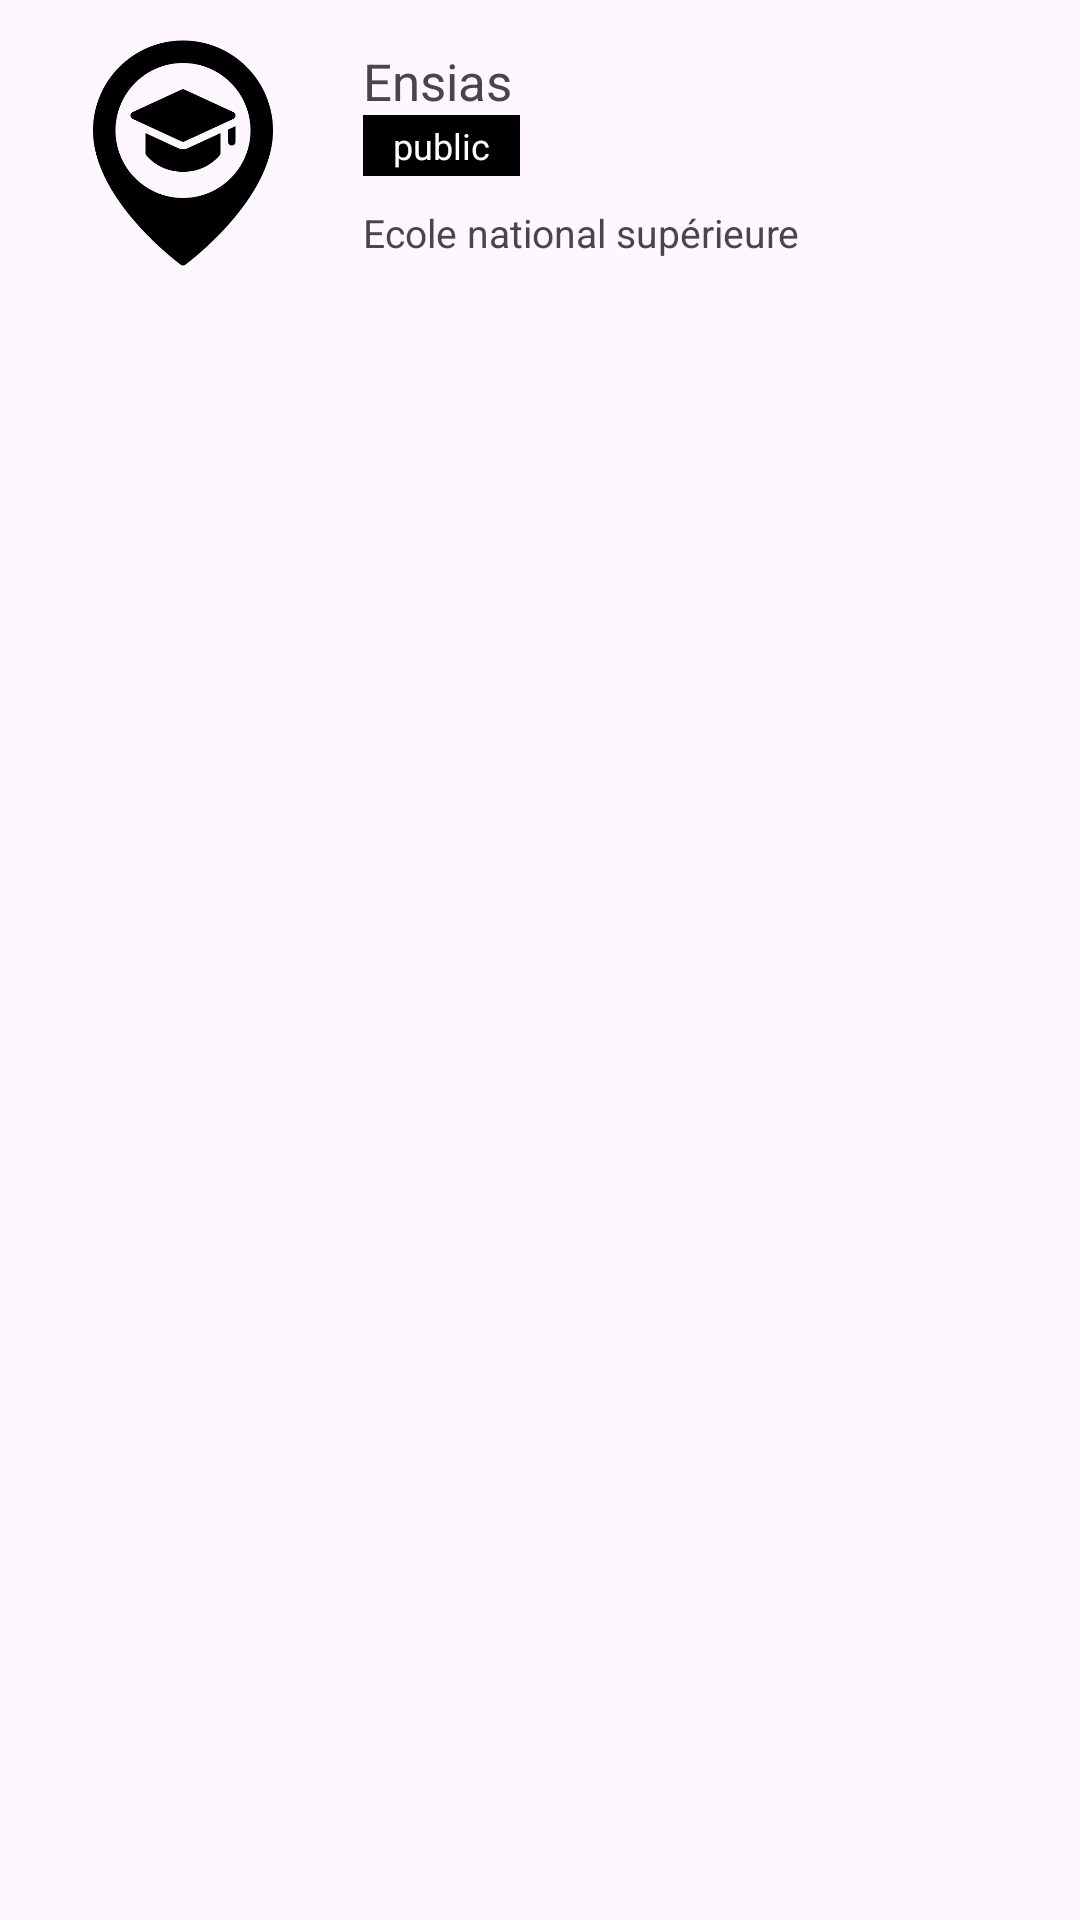

Screen size 1080 × 1920. Icon name, then its box in pixels as (left=x1, top=y1, right=x2, bottom=y2):
education: (left=93, top=40, right=273, bottom=266)
